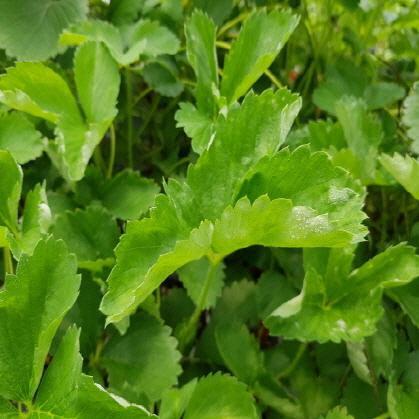Powdery Mildew Leaf: (211, 142, 371, 258), (0, 39, 122, 182), (184, 84, 303, 223), (262, 240, 418, 345), (5, 178, 52, 264), (374, 149, 418, 199)
